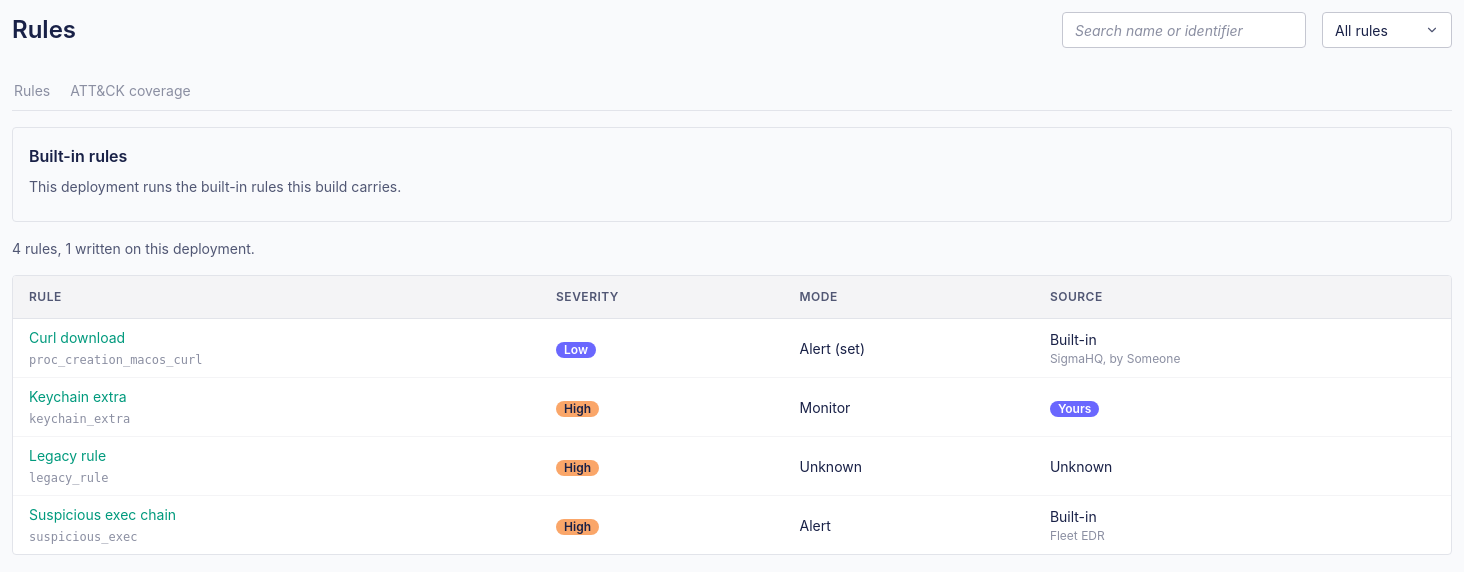
Test: RulesCatalog › filters by name or identifier
This screenshot has width=1464, height=572.
Check: the table is shown, box [13,276,1451,554]
In the search field named "Search rules by name or identifier": point(1184, 30) [1062,12,1306,48], type "macos_curl"
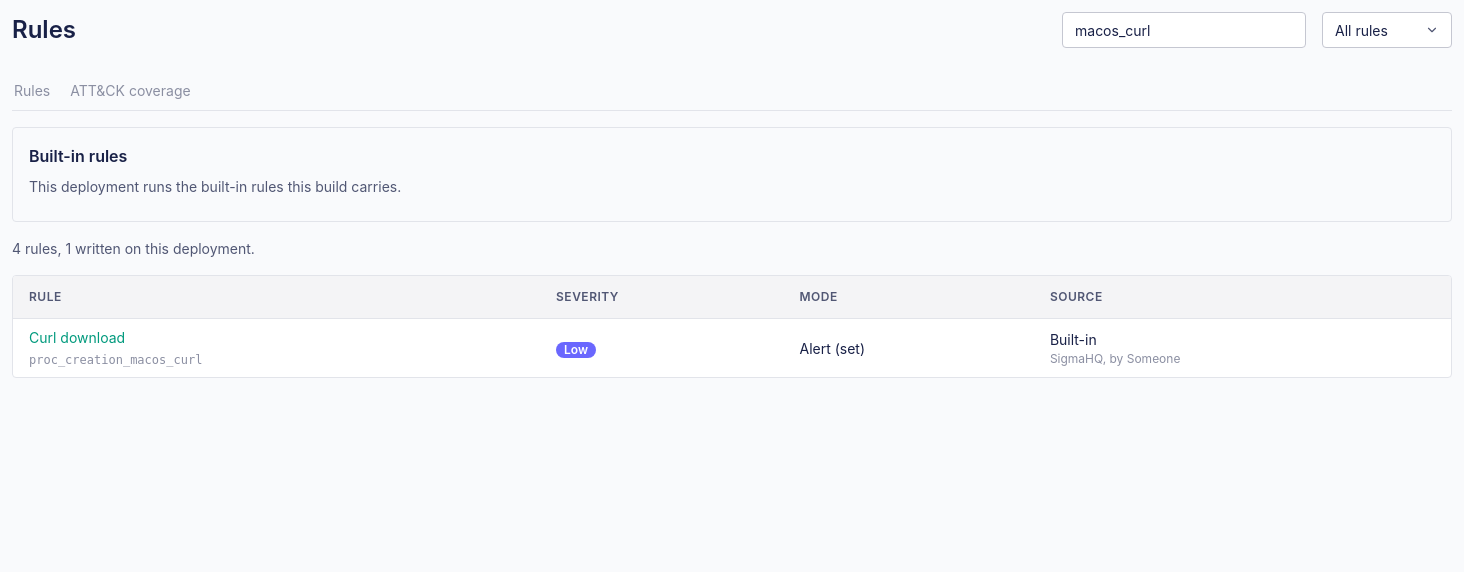
Check: the links read "Curl download", in this order, box [29,329,125,346]
Replace the text in the search field named "Search rules by name or identifier" with "no such rule": point(1184, 30) [1062,12,1306,48]
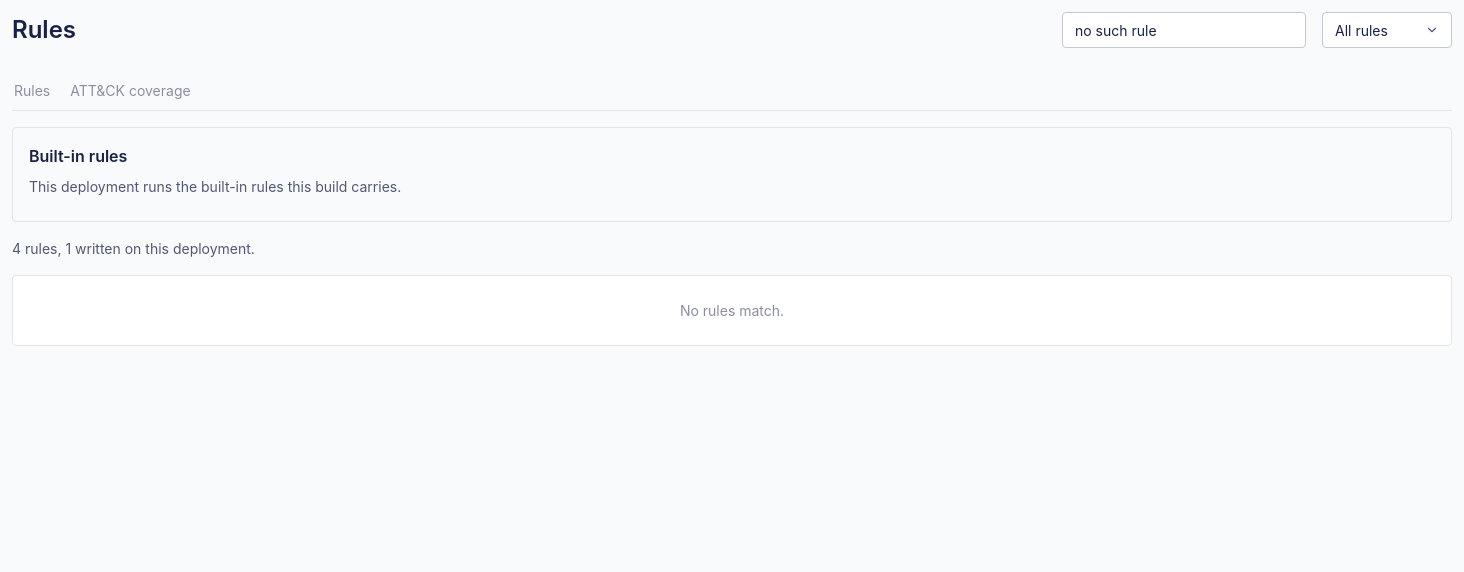
Check: the text "No rules match." is shown, box [12,275,1452,346]
